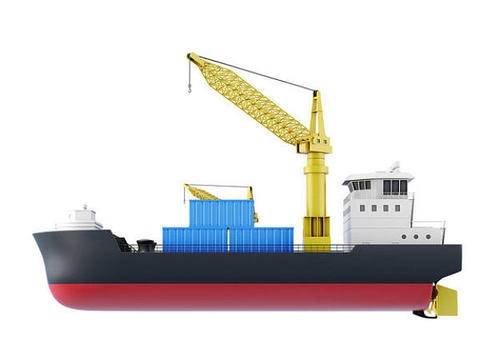Cargoship: (33, 52, 472, 319)
